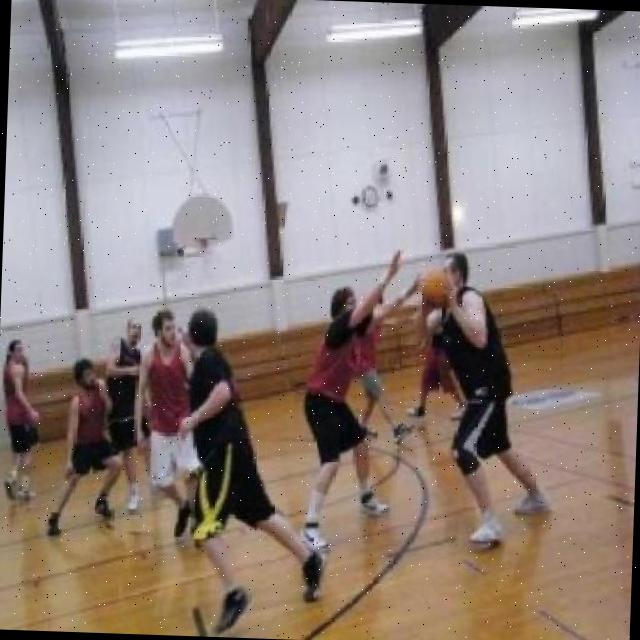ball: (421, 266, 448, 306)
